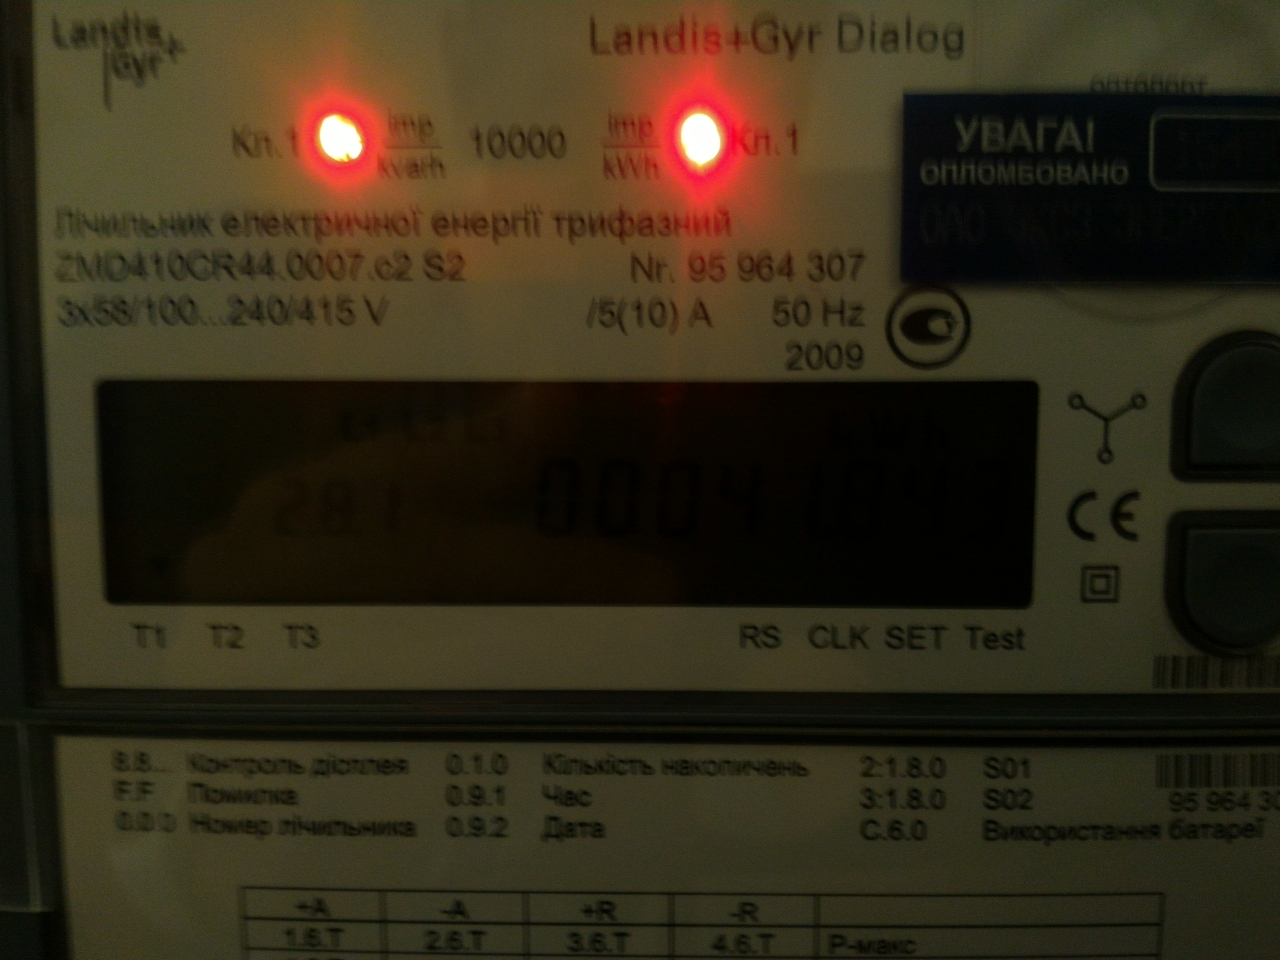screen: (50, 331, 1080, 657)
